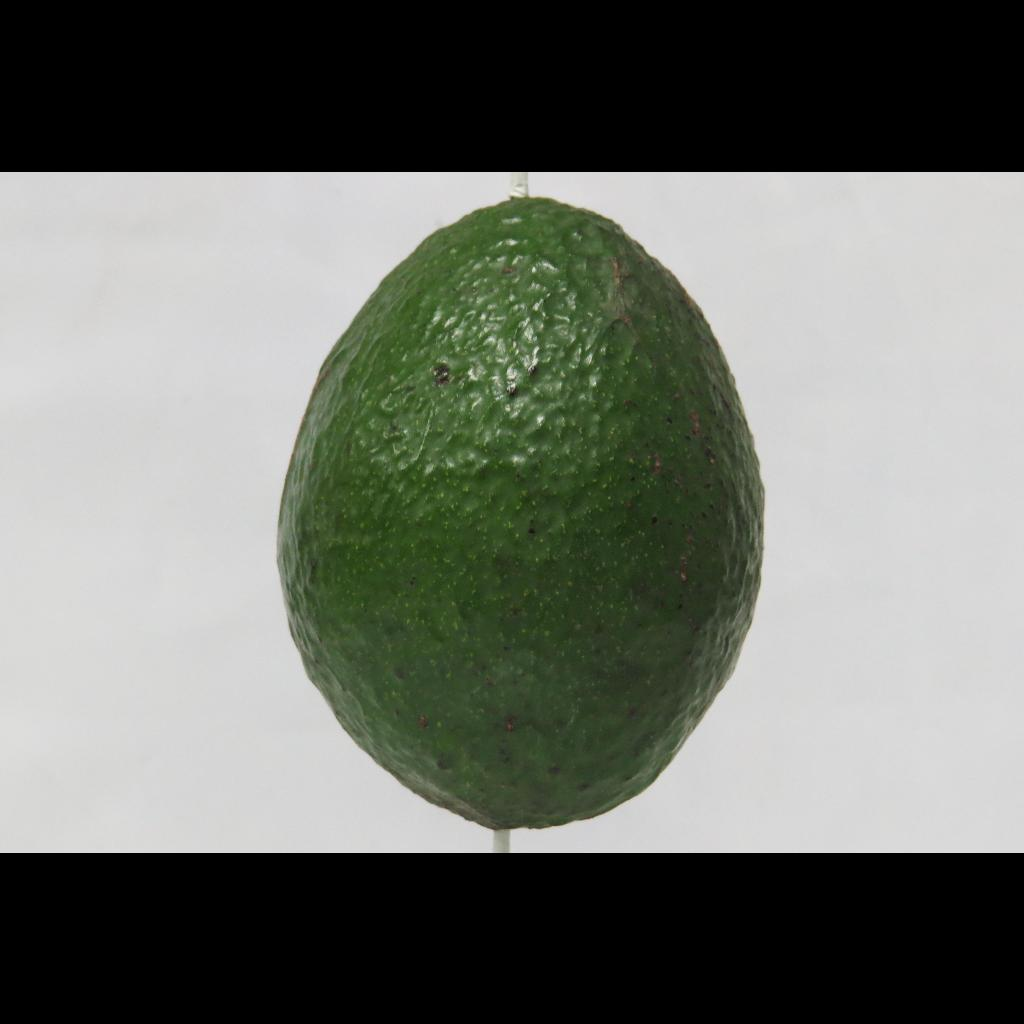fruto_sano: (243, 177, 802, 844)
